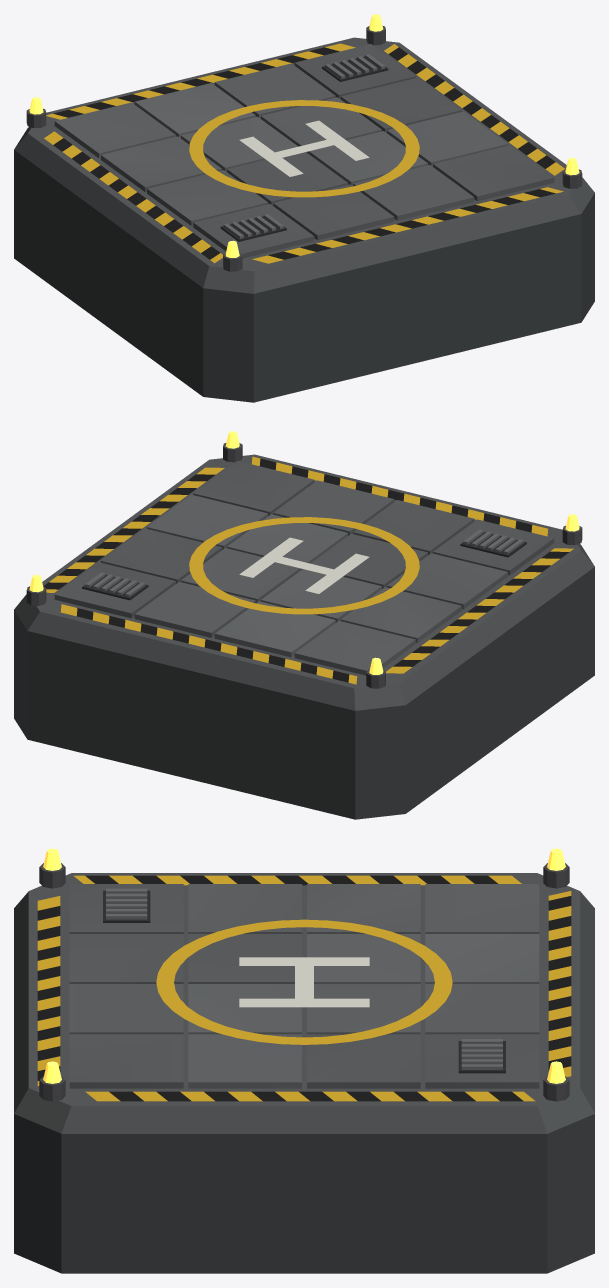
File: pad.glb
The picture shows the model from 3 angles, top to bottom: view 1: azimuth 30°, elevation 25°; view 2: azimuth 150°, elevation 25°; view 3: azimuth 270°, elevation 25°; orthographic projection. The views are drawn at different scales.
Parts seen in each view (by area): view 1: pad; view 2: pad; view 3: pad.
Boxes of the visible parts, <box> form: pad: <box>14,14,594,402</box>; pad: <box>14,431,594,819</box>; pad: <box>14,848,594,1273</box>.
Bounding box in the file's own units: 0.98 × 0.36 × 0.98.
